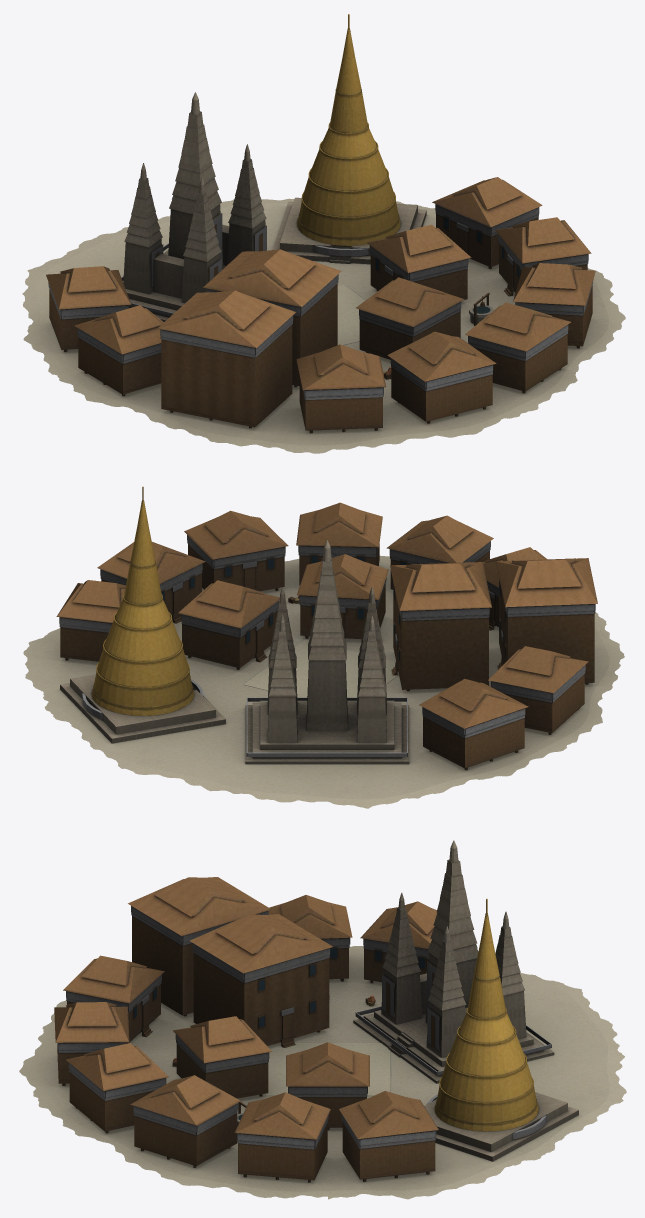
The model's file is kingdoms-town-medium-a-monsoon-e183da62.glb.
3 renders of one model, top to bottom at view 1: azimuth 30°, elevation 25°; view 2: azimuth 150°, elevation 25°; view 3: azimuth 270°, elevation 25°, orthographic.
Visible parts, largest first — view 1: LOD0; view 2: LOD0; view 3: LOD0.
Boxes of the visible parts, box(x1,y1,x2,y2) form: LOD0: box(22, 14, 625, 453); LOD0: box(23, 486, 624, 808); LOD0: box(19, 840, 626, 1199).
Size of what is drawn, in the model's own units: 5.93 by 2.4 by 5.94.
Materials: 3 (3 with a texture image).
